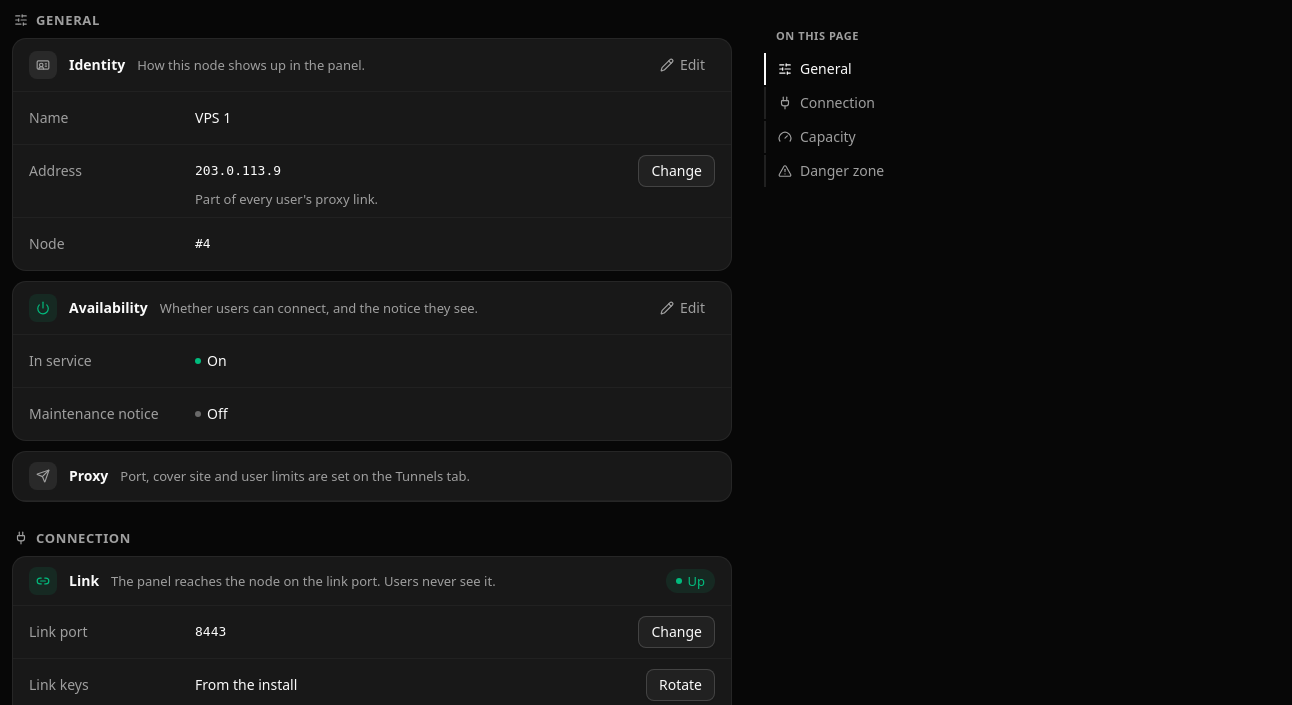
Test: MtprotoNodeSettings › turns the maintenance notice on with its message
Click the button "Edit" in the row of "Availability": x=682, y=308 [650,292,715,324]
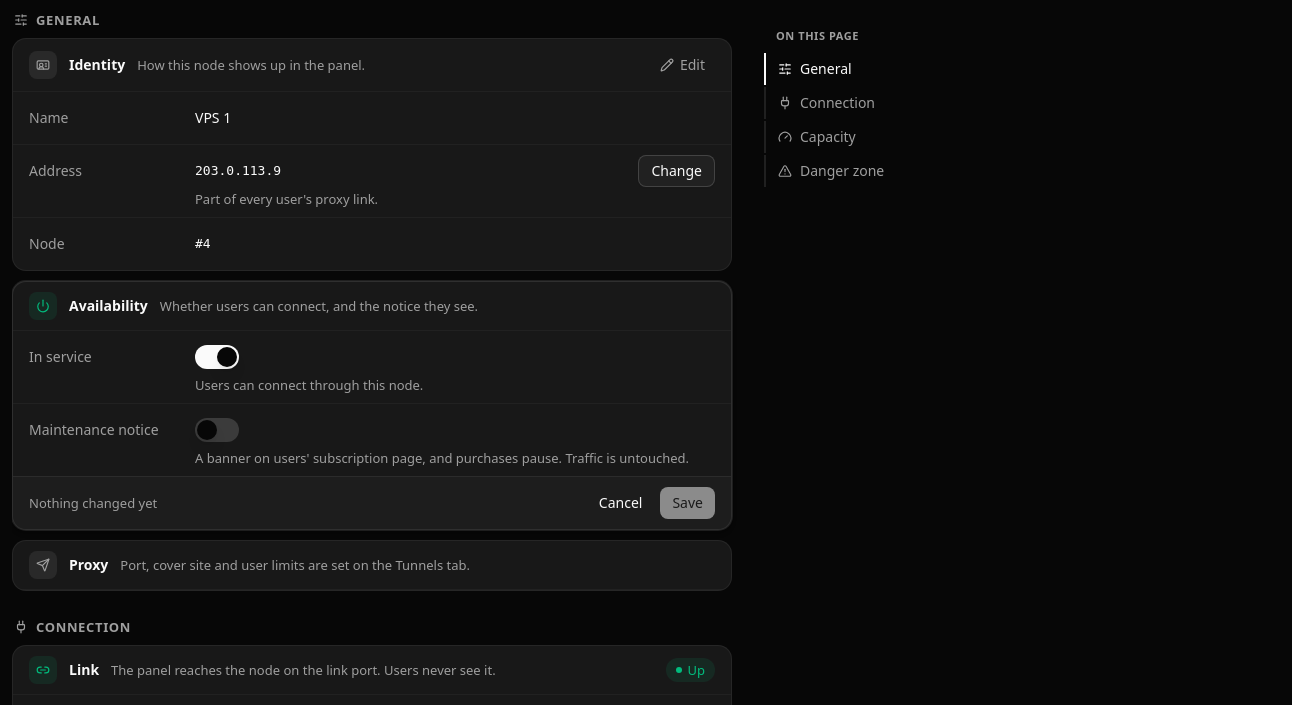
Click the switch named "Maintenance notice": x=217, y=430 [195,418,239,442]
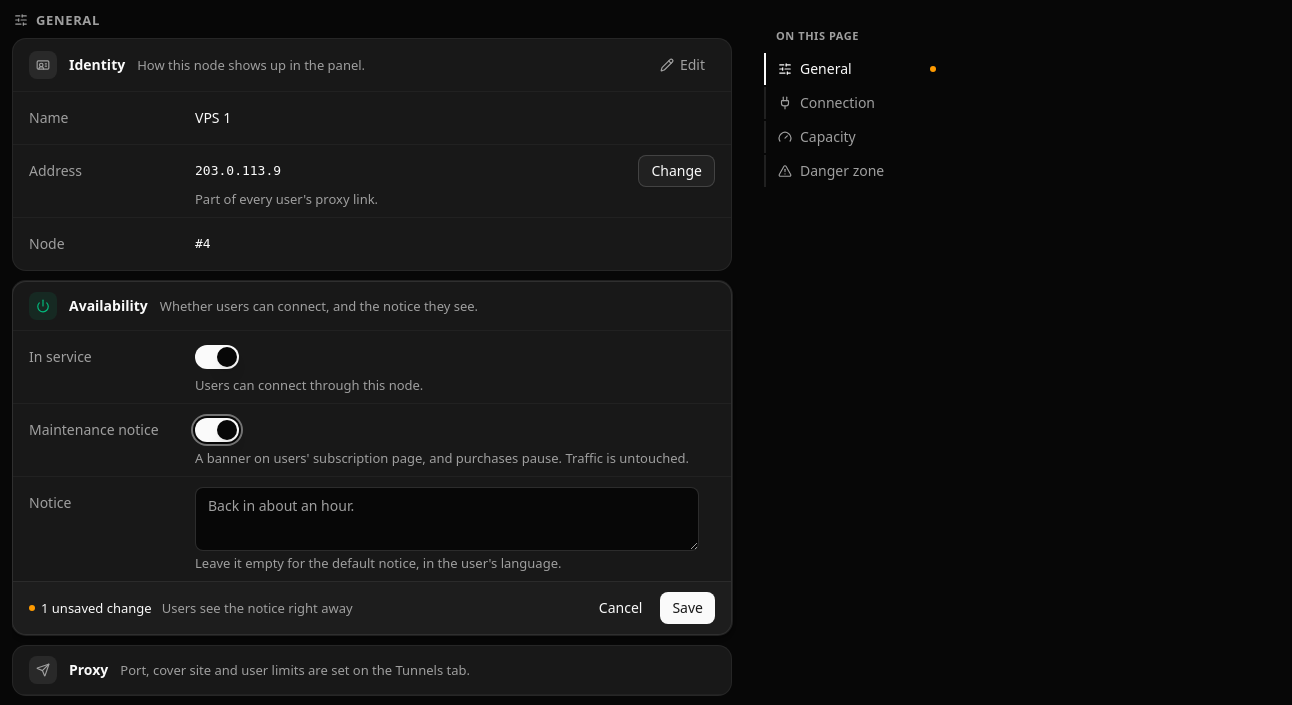
In the text box labelled "Notice": x=447, y=519 [195,487,699,551], type "Back soon"
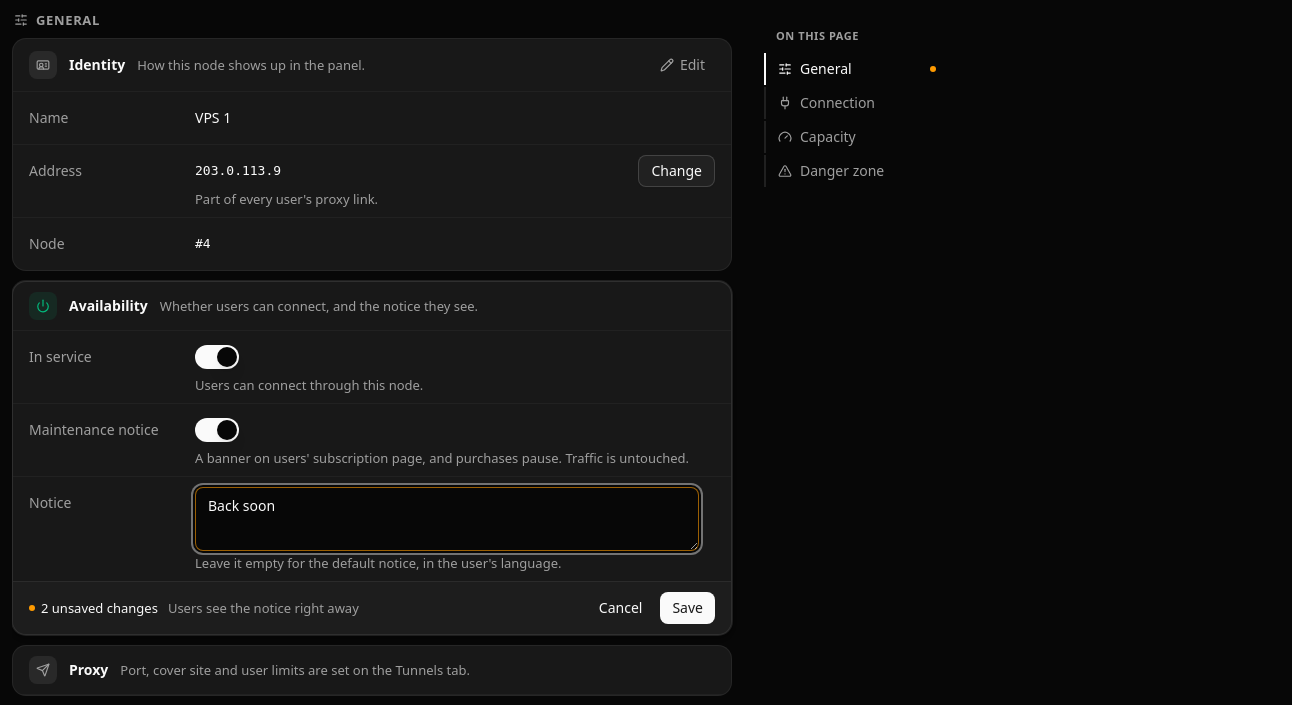
Now the footer "unsaved changes" shows "Users see the notice right away", box [168,599,359,617]
Now the footer "unsaved changes" shows "2 unsaved changes", box [13,581,731,634]
Click the button "Save": x=688, y=608 [660,592,715,624]
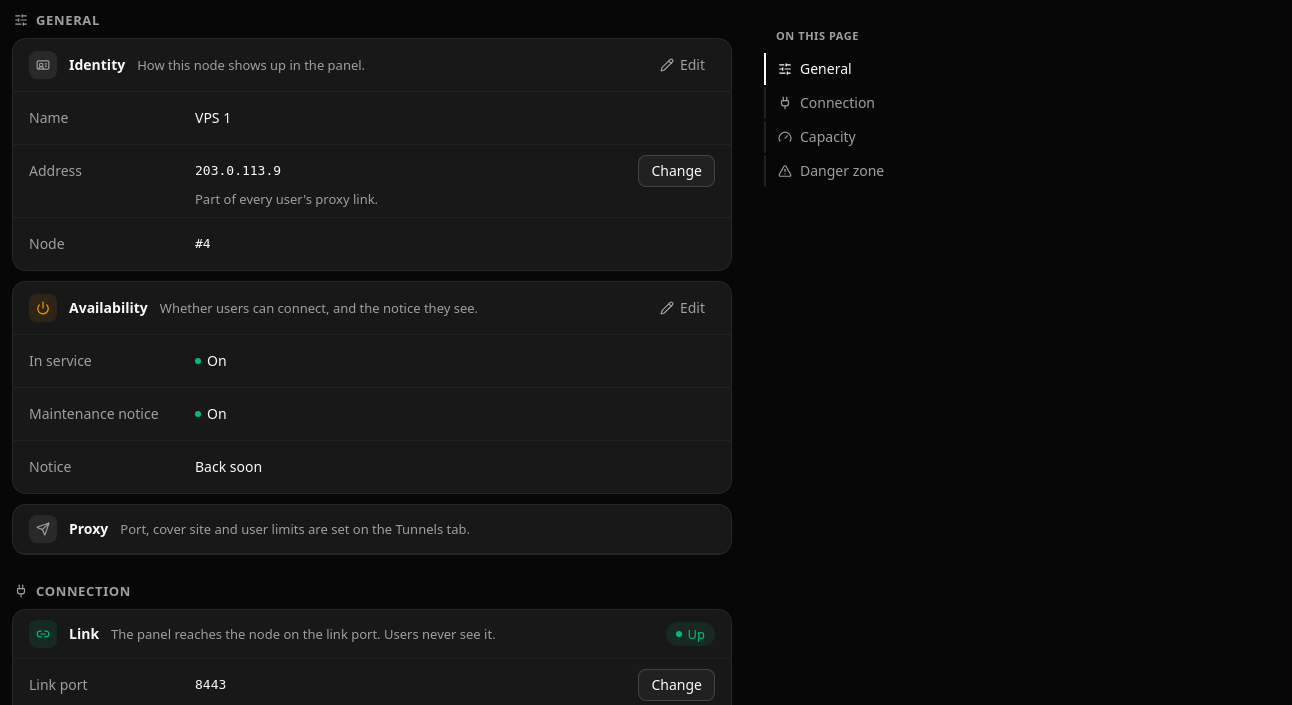
Now the text "Back soon" is shown, box [195,457,262,477]
